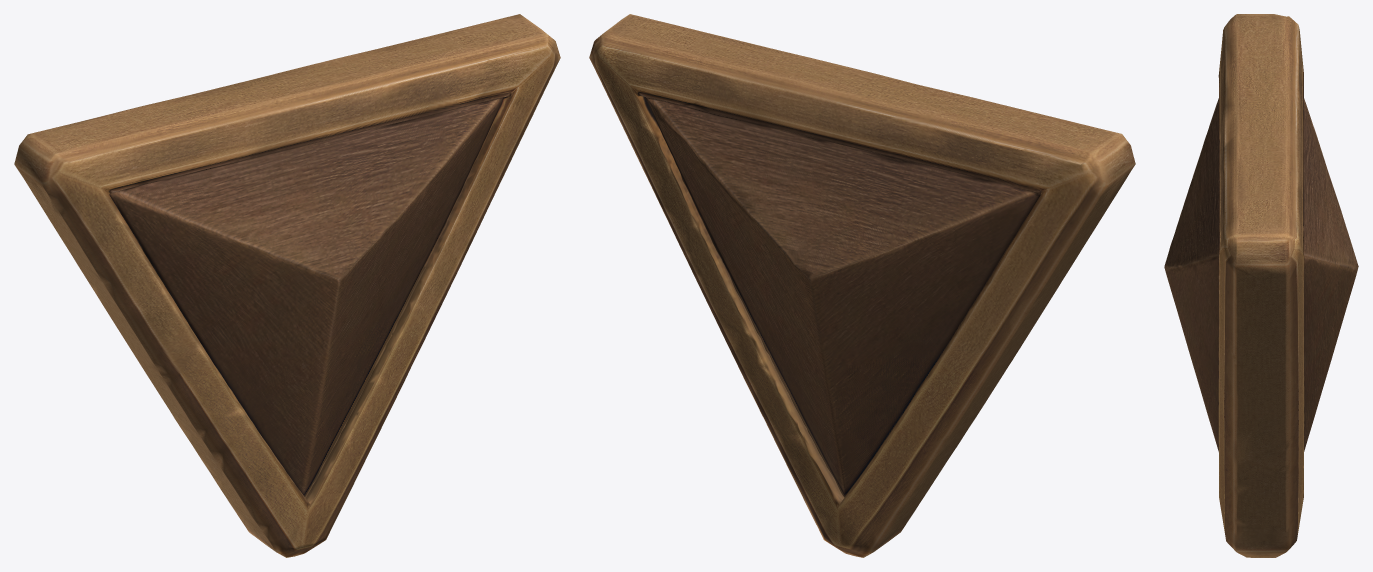
Rendered from bronze_triangle_emblem_3d_model.fbx.
3 views of the same model, side by side, from view 1: azimuth 30°, elevation 25°; view 2: azimuth 150°, elevation 25°; view 3: azimuth 270°, elevation 25° (orthographic). The views are drawn at different scales.
Visible parts, largest first — view 1: tripo_node_9582a5e4; view 2: tripo_node_9582a5e4; view 3: tripo_node_9582a5e4.
Part boxes in pixels (bbox=[...]): tripo_node_9582a5e4: bbox=[14, 14, 560, 557]; tripo_node_9582a5e4: bbox=[589, 14, 1135, 557]; tripo_node_9582a5e4: bbox=[1164, 14, 1358, 557].
Size of the model in its own units: 1 by 0.8594 by 0.3515.
